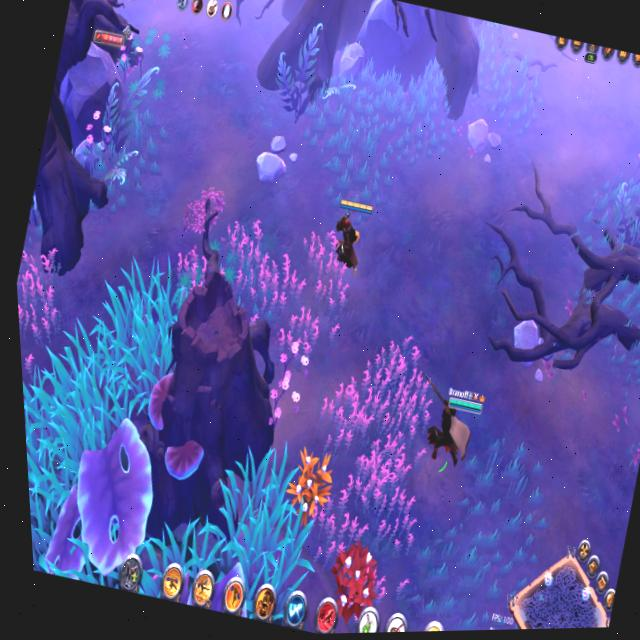hide: (303, 513, 404, 634), (269, 428, 352, 542)
red: (392, 360, 506, 493), (310, 181, 389, 293)
